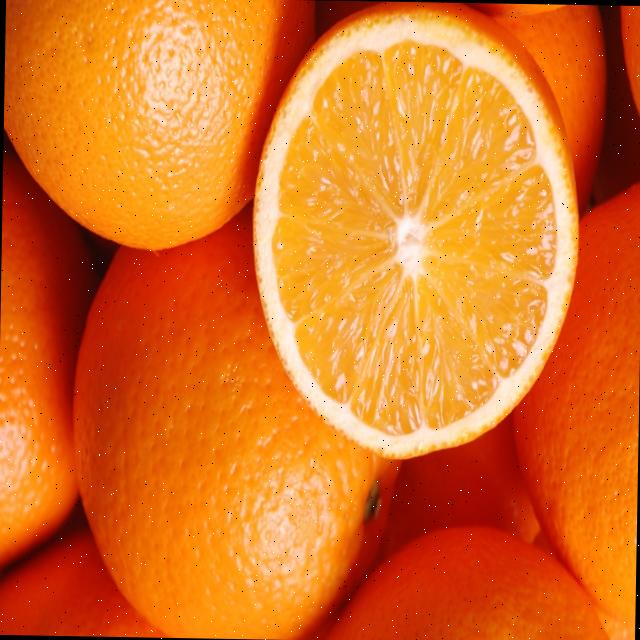Jeruk: (247, 1, 584, 464), (68, 201, 404, 640), (2, 0, 316, 254), (509, 178, 640, 627), (0, 149, 96, 570), (321, 521, 614, 640), (489, 4, 608, 218), (380, 412, 542, 564), (0, 524, 172, 637), (617, 6, 640, 125), (594, 603, 634, 640)
